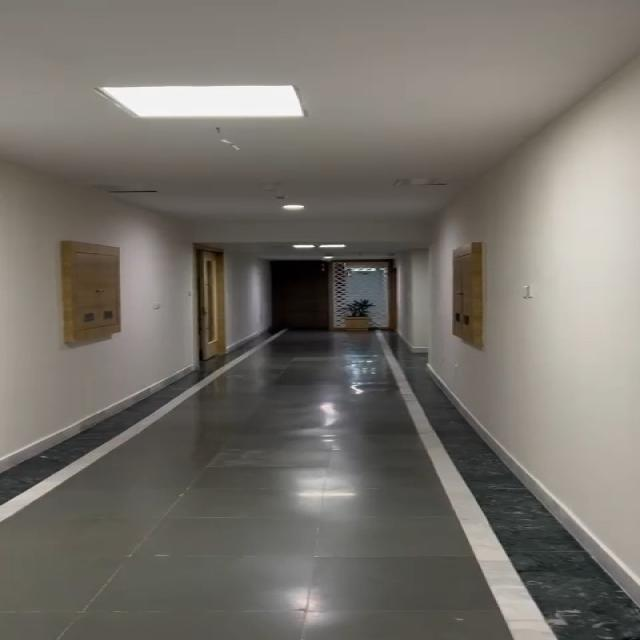door: (147, 228, 247, 381), (288, 256, 404, 336)
floor: (112, 399, 534, 640)
furniture: (331, 298, 379, 340)
wall: (21, 0, 640, 212), (480, 154, 640, 433), (0, 151, 142, 415)
